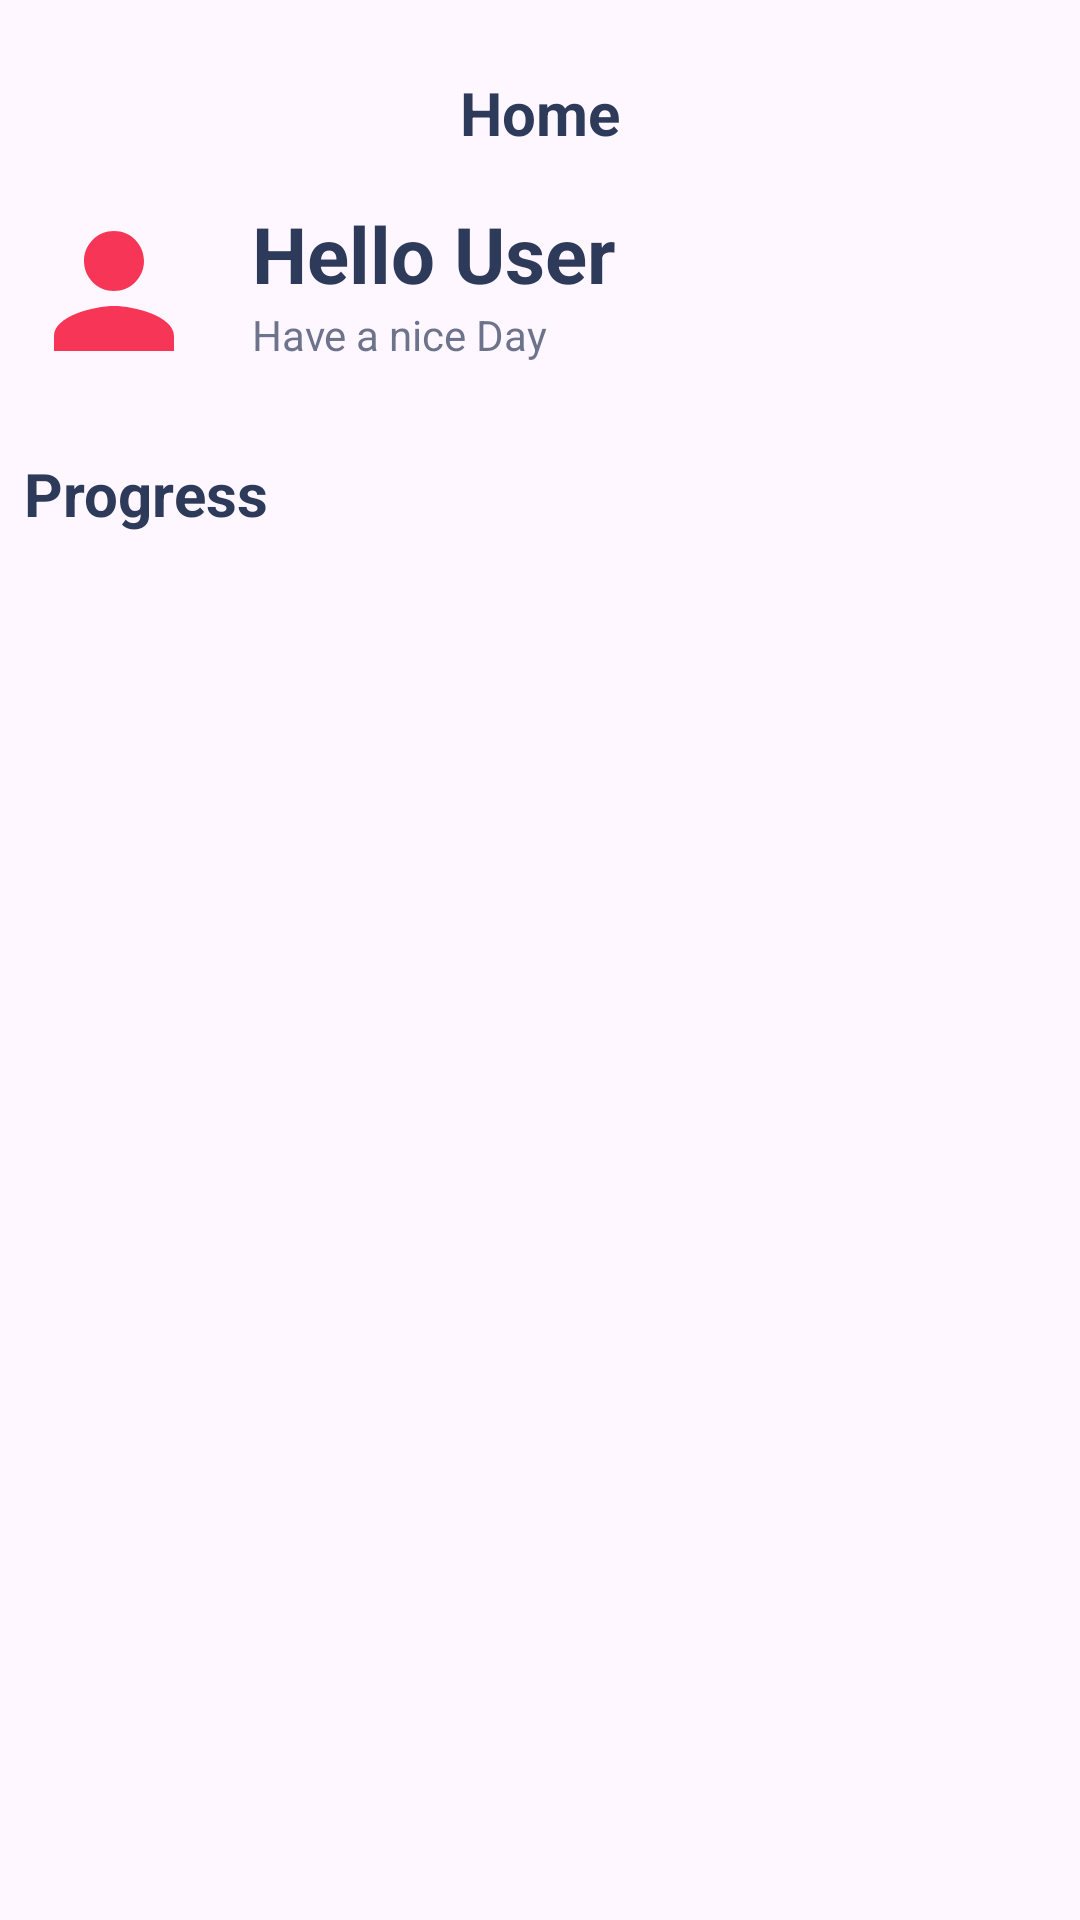

Icons on this 1080*1920 Android screen, each with the point to tap as point (x, y):
person: point (114, 291)
